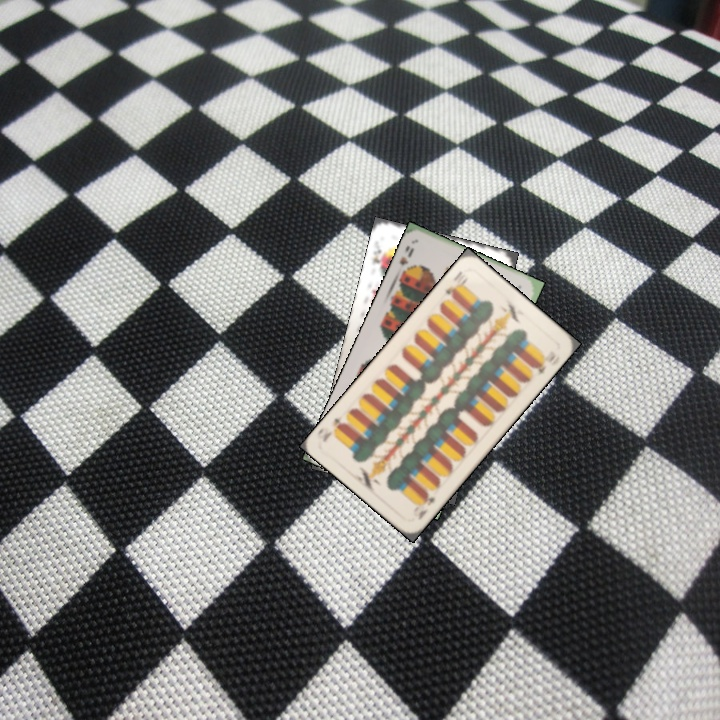E10: (441, 267, 471, 300), (414, 489, 438, 522)
S9: (395, 244, 417, 279)
SK: (369, 239, 384, 267)
